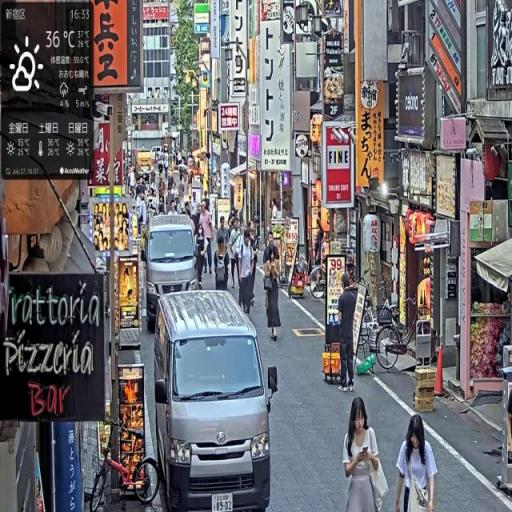person: (343, 396, 386, 512), (395, 413, 438, 512), (337, 275, 359, 395), (265, 234, 284, 346), (239, 227, 258, 316), (214, 235, 234, 294)
